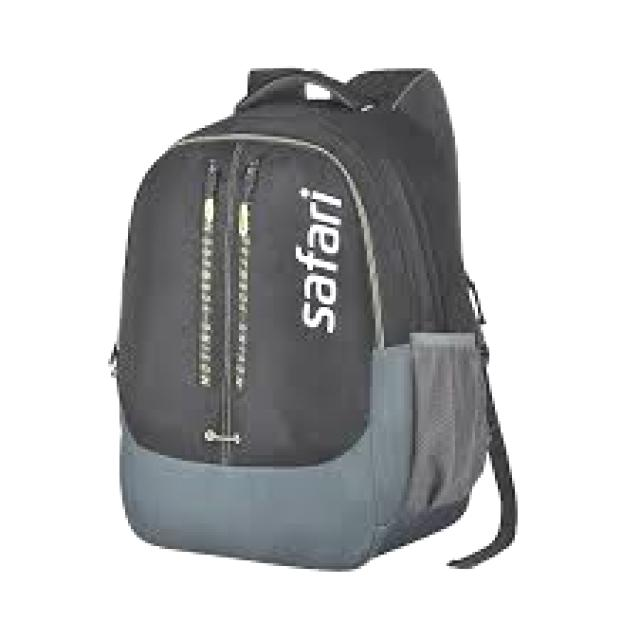backpack: (109, 64, 519, 573)
